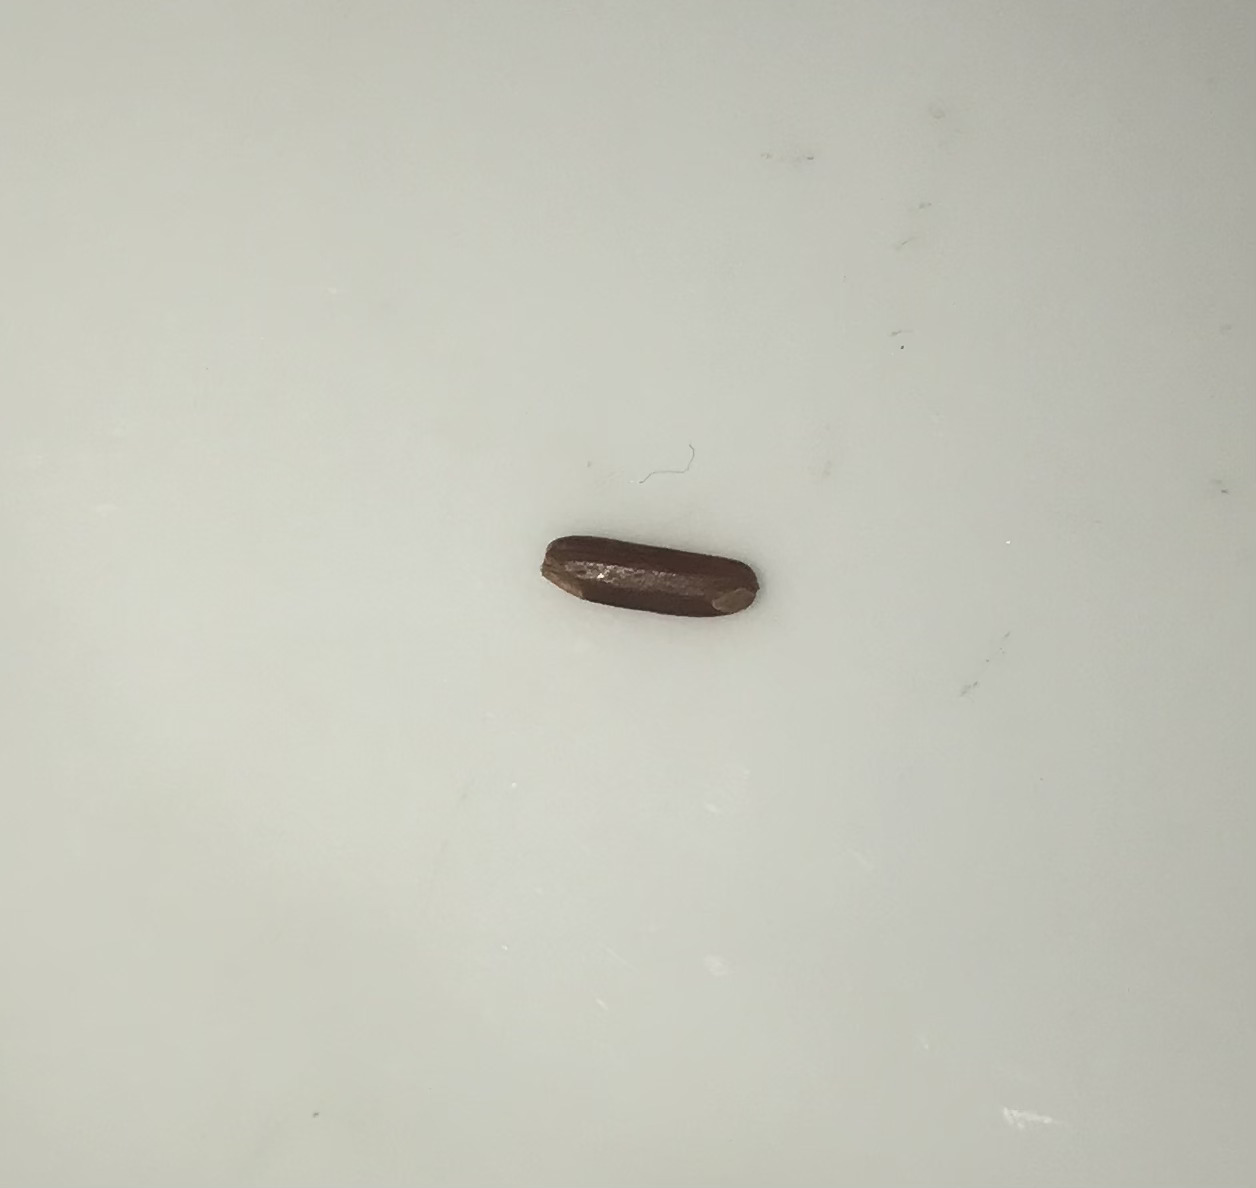Gao Huyet Rong: (547, 530, 760, 623)
